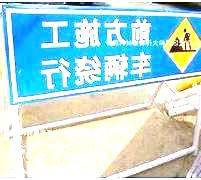sign: (4, 3, 201, 87)
